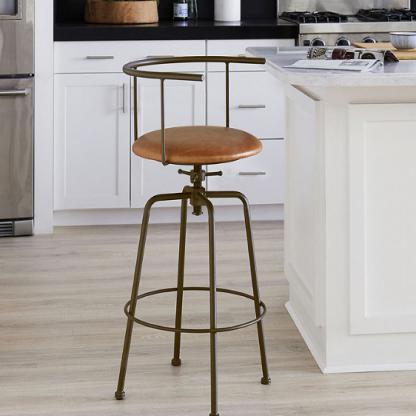chair: (117, 43, 267, 416)
